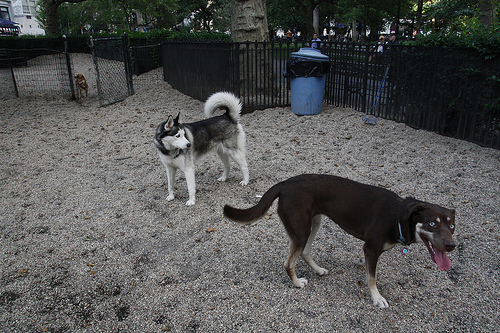dog: (151, 91, 252, 208)
